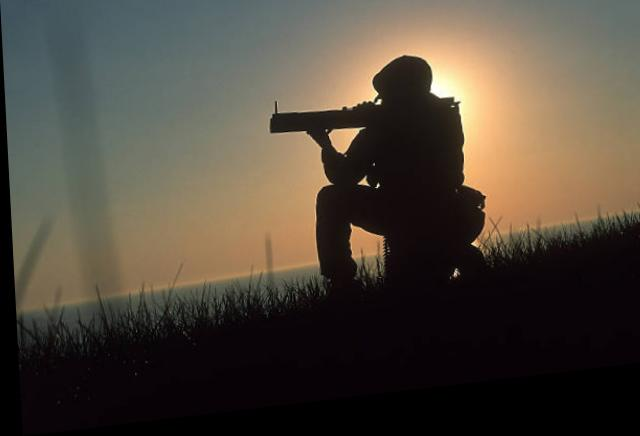other: (306, 71, 473, 314)
